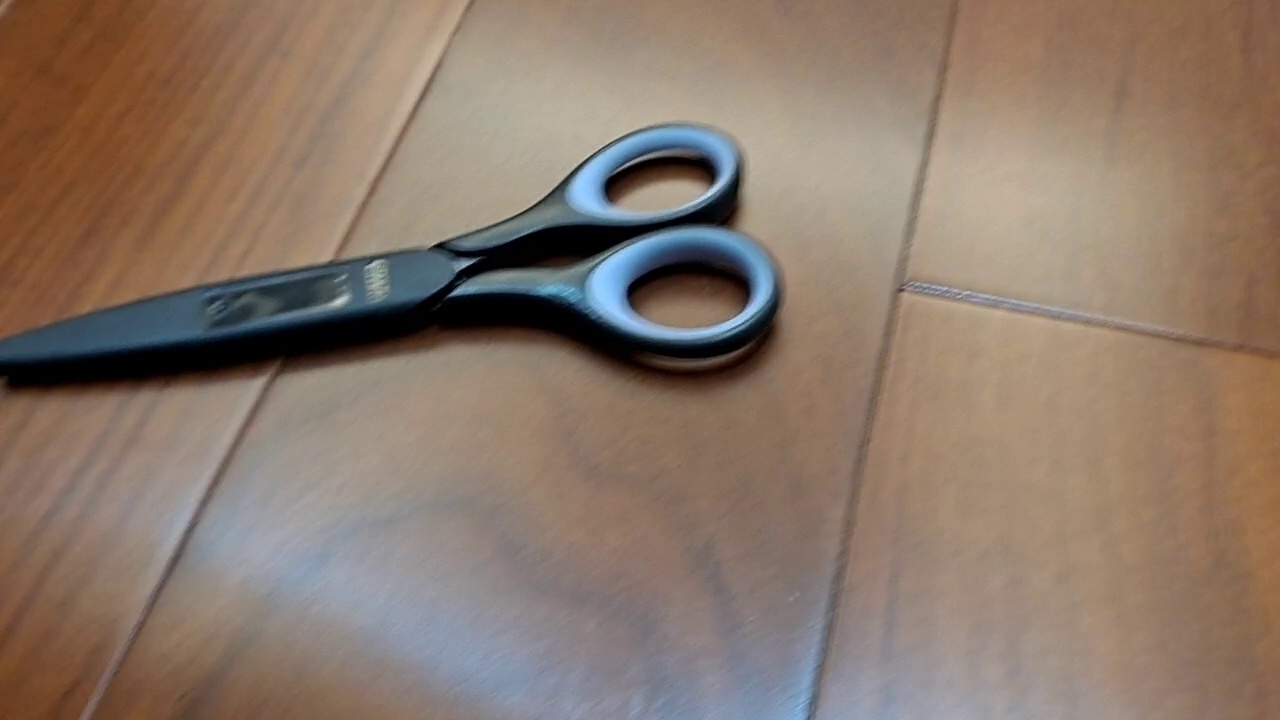scissors: (1, 120, 787, 391)
